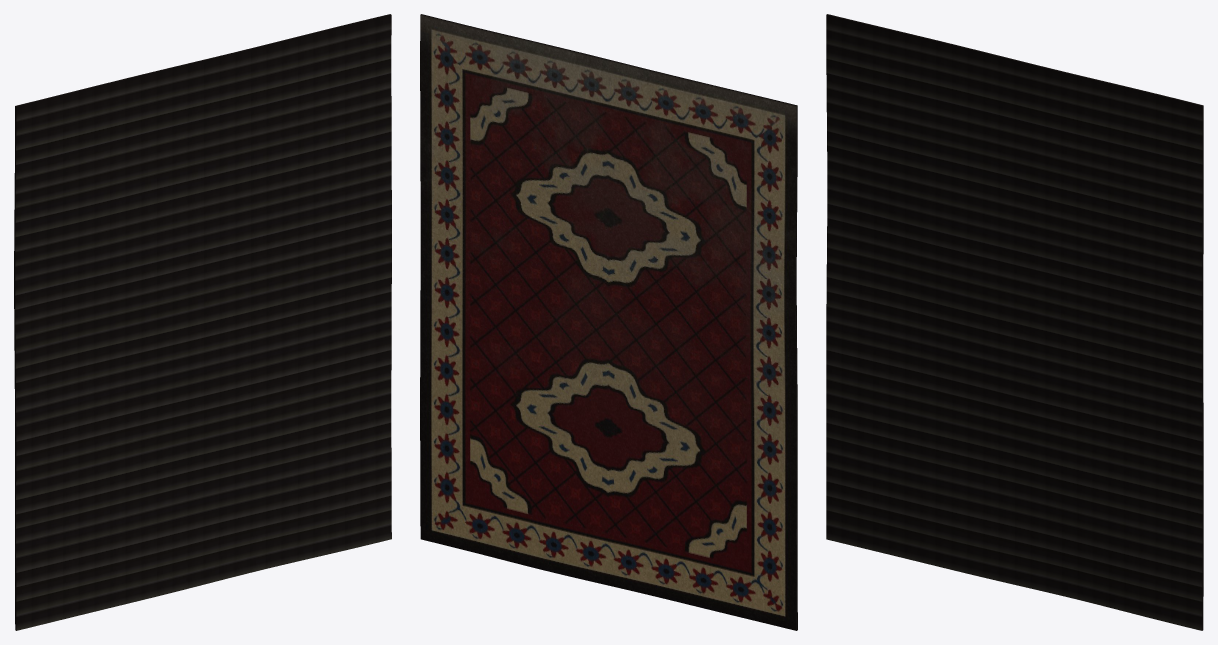
File: carpet_wall_web.glb
The picture shows the model from 3 angles, left to right: view 1: azimuth 30°, elevation 25°; view 2: azimuth 150°, elevation 25°; view 3: azimuth 330°, elevation 25°; orthographic projection.
Parts seen in each view (by area): view 1: CarpetWall_Body; view 2: CarpetWall_Body; view 3: CarpetWall_Body.
Part boxes in pixels (box(x1,y1,x2,y2)): CarpetWall_Body: box(14, 14, 391, 630); CarpetWall_Body: box(420, 14, 797, 630); CarpetWall_Body: box(826, 14, 1203, 630).
Size of the model in its own units: 1.5 by 2 by 0.0159.
1 material, 1 textured.
